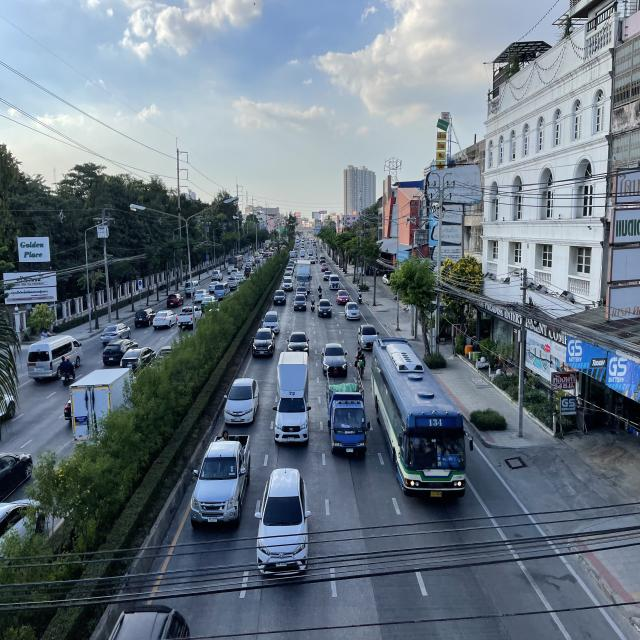bike: (355, 344, 367, 380), (310, 295, 316, 313), (357, 288, 363, 304), (318, 285, 322, 299)
bus: (370, 337, 474, 503)
car: (188, 428, 252, 530), (255, 466, 312, 578), (222, 377, 260, 425), (320, 342, 348, 377), (252, 327, 275, 359), (356, 323, 381, 351), (286, 330, 310, 356), (261, 310, 281, 336), (336, 289, 350, 305), (295, 286, 308, 300)
truck: (325, 368, 371, 459), (272, 351, 313, 448), (296, 259, 312, 294)
